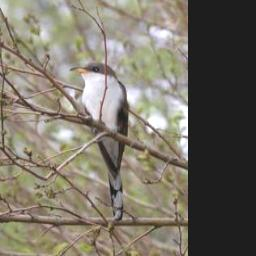Cuckoo: (70, 59, 131, 218)
